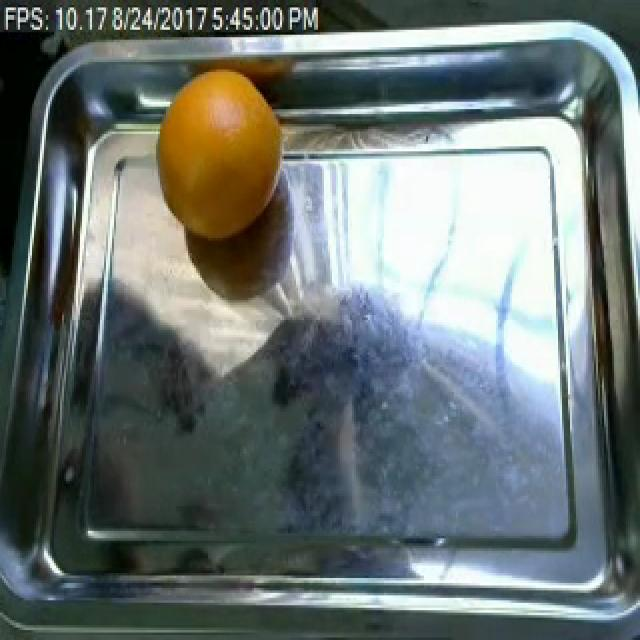Fruit: (150, 59, 288, 246)
